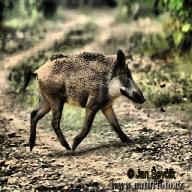boar: (22, 49, 146, 152)
